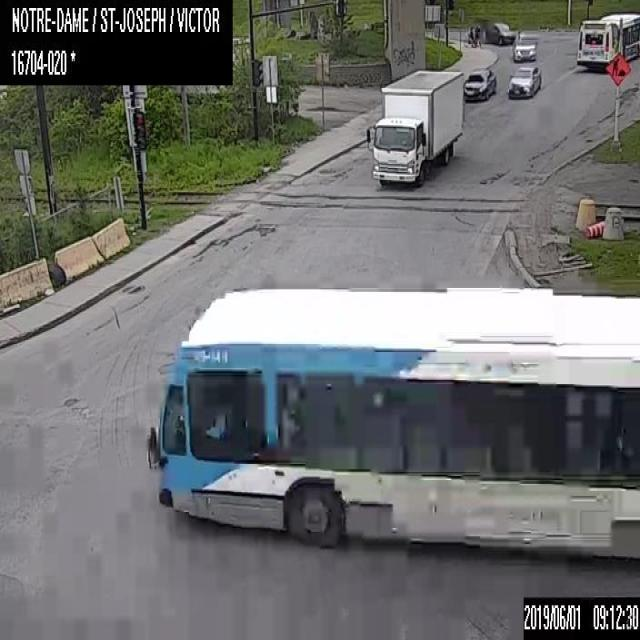bus: (145, 284, 639, 561), (576, 13, 639, 63)
construction: (605, 54, 630, 85), (584, 220, 604, 238)
pedestrian: (467, 24, 474, 48), (474, 24, 481, 48)
vehicle: (366, 70, 464, 186), (507, 65, 541, 98), (464, 68, 496, 100), (484, 22, 515, 44), (512, 39, 536, 60)
